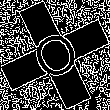O_SE: (24, 22, 86, 88)
